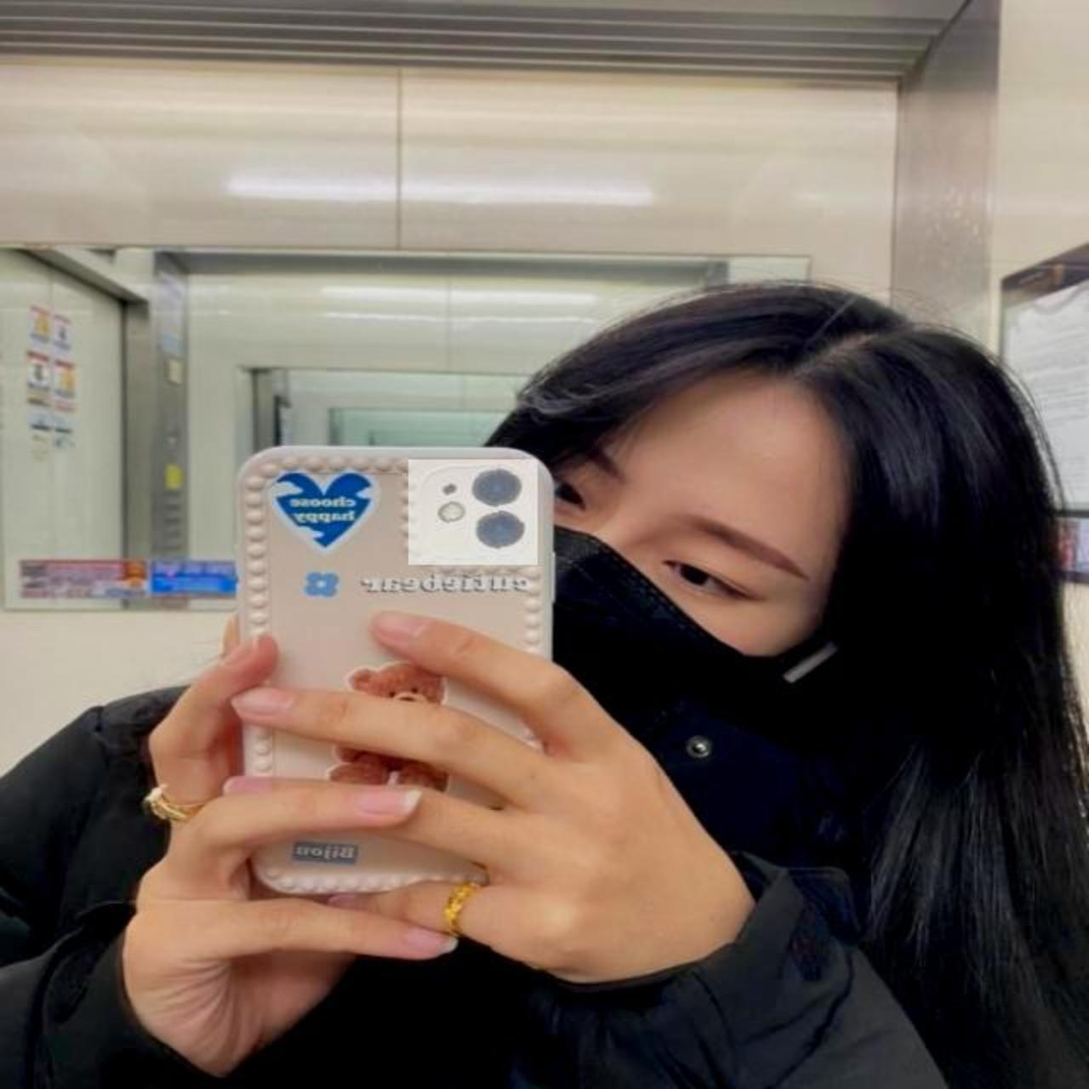phone: (230, 441, 563, 893)
